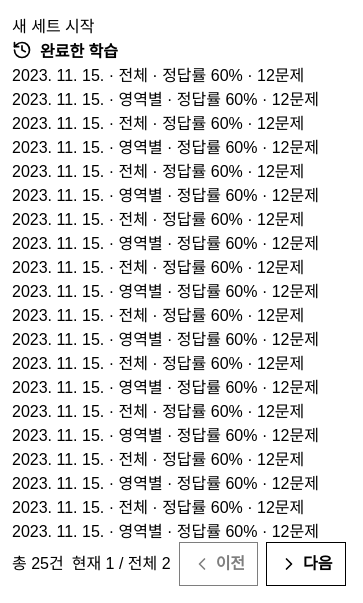
Test case: 학습 이력 › 페이지네이션으로 다음 페이지를 보인다
Check: the text "총 25건" is shown, box 12,553 -> 64,575
Step 1. Click the button "다음" → (306, 564), box 266,542 -> 346,586
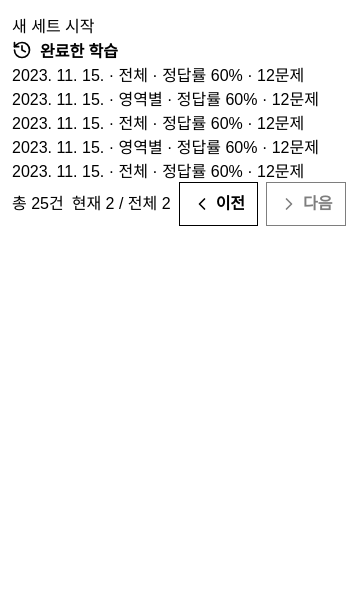
Check: the text "현재 2 / 전체 2" is shown, box 72,193 -> 171,215
